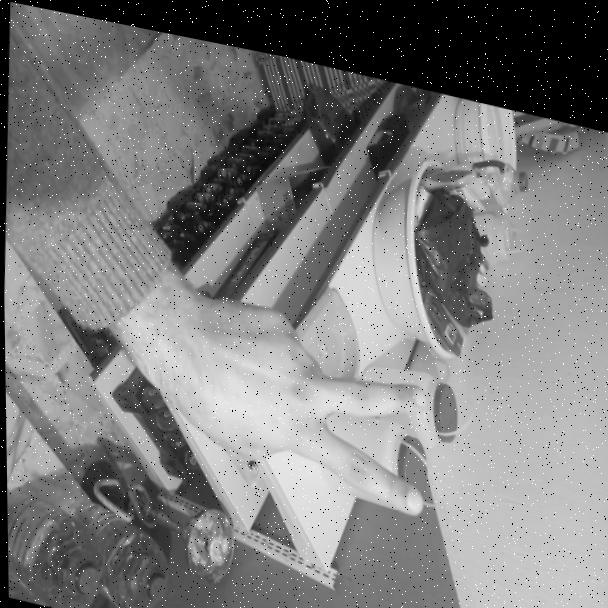two: (146, 260, 439, 512)
